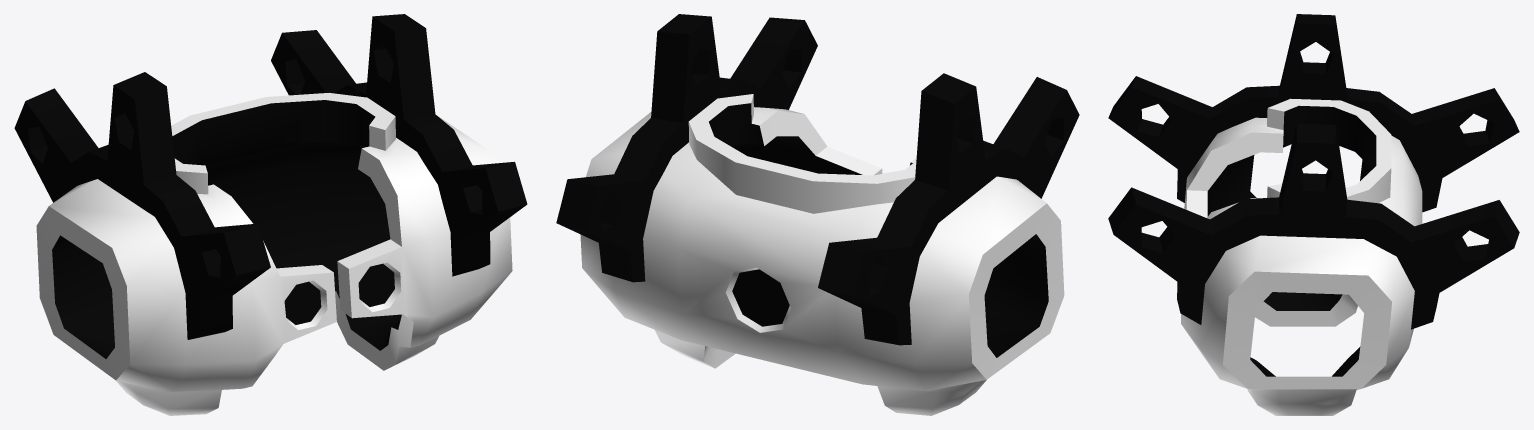
The picture shows the model from 3 angles, left to right: view 1: azimuth 30°, elevation 25°; view 2: azimuth 150°, elevation 25°; view 3: azimuth 270°, elevation 25°; orthographic projection. The views are drawn at different scales.
Visible parts, largest first — view 1: Joint_0_Object_2, Joint_0_Object_0, Joint_0_Object_4, Joint_0_Object_5, Joint_0_Object_6, Joint_0_Object_1; view 2: Joint_0_Object_2, Joint_0_Object_4, Joint_0_Object_5, Joint_0_Object_0, Joint_0_Object_6, Joint_0_Object_3; view 3: Joint_0_Object_2, Joint_0_Object_4, Joint_0_Object_5, Joint_0_Object_6, Joint_0_Object_0.
Part boxes in pixels (x1,y1,x2,y2): Joint_0_Object_2: (36, 93, 512, 415); Joint_0_Object_0: (52, 100, 401, 358); Joint_0_Object_4: (14, 14, 527, 302); Joint_0_Object_5: (42, 75, 490, 339); Joint_0_Object_6: (71, 82, 472, 238); Joint_0_Object_1: (284, 263, 394, 324); Joint_0_Object_2: (580, 94, 1064, 415); Joint_0_Object_4: (556, 14, 1079, 315); Joint_0_Object_5: (599, 74, 1051, 345); Joint_0_Object_0: (709, 103, 1048, 357); Joint_0_Object_6: (614, 77, 1023, 246); Joint_0_Object_3: (732, 269, 789, 326); Joint_0_Object_2: (1181, 98, 1422, 415); Joint_0_Object_4: (1108, 14, 1519, 292); Joint_0_Object_5: (1159, 73, 1467, 329); Joint_0_Object_6: (1210, 85, 1414, 251); Joint_0_Object_0: (1207, 105, 1376, 376).
Bounding box in the file's own units: 79.21 × 63.78 × 81.38.
Materials: 6 (5 with a texture image).
